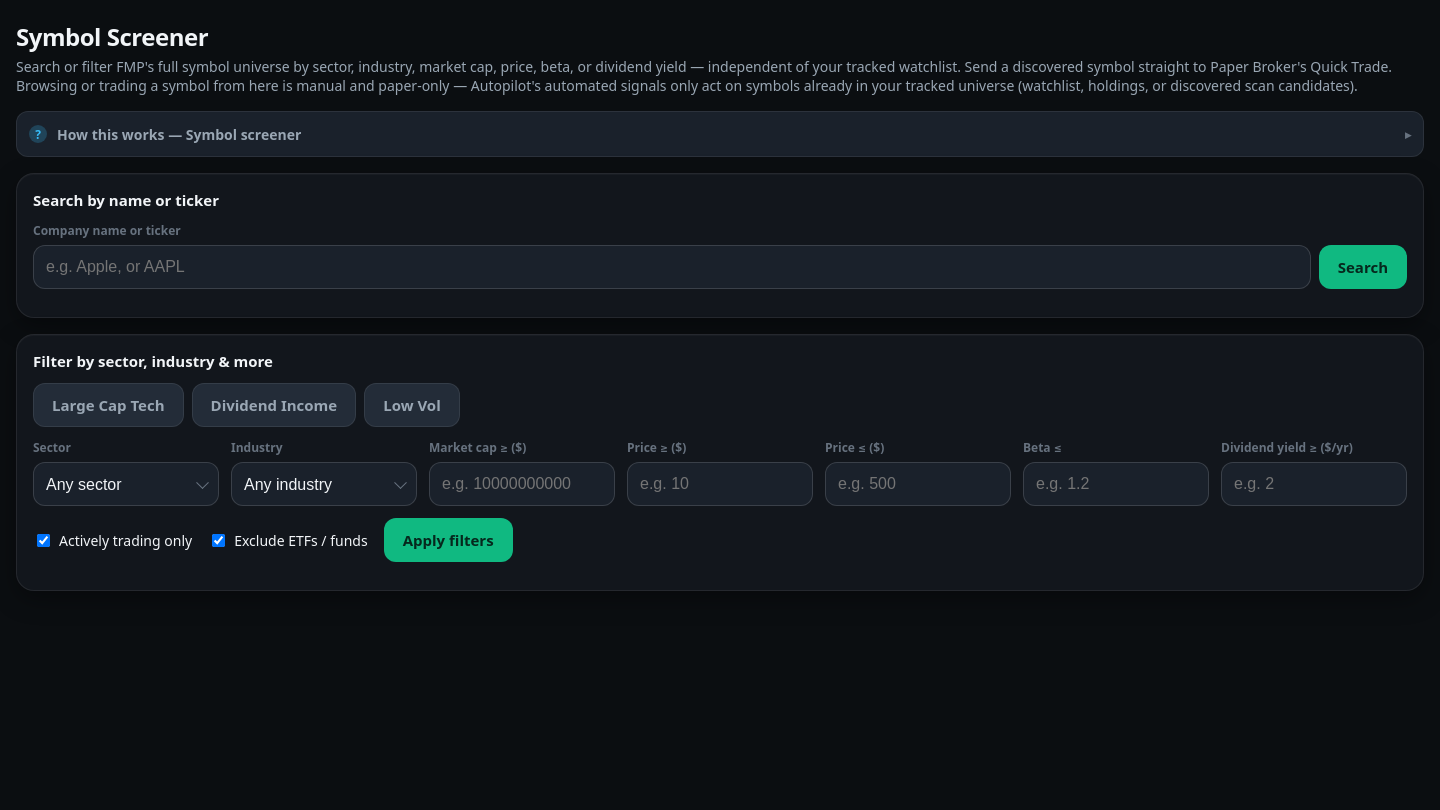
SymbolScreener screen (real mock API) › filters: a combination matching nothing shows an honest reason, not a fabricated row
Type "999999" into the number field labelled "Price ≥ ($)". click: (720, 484)
box: x1=627 y1=462 x2=813 y2=506
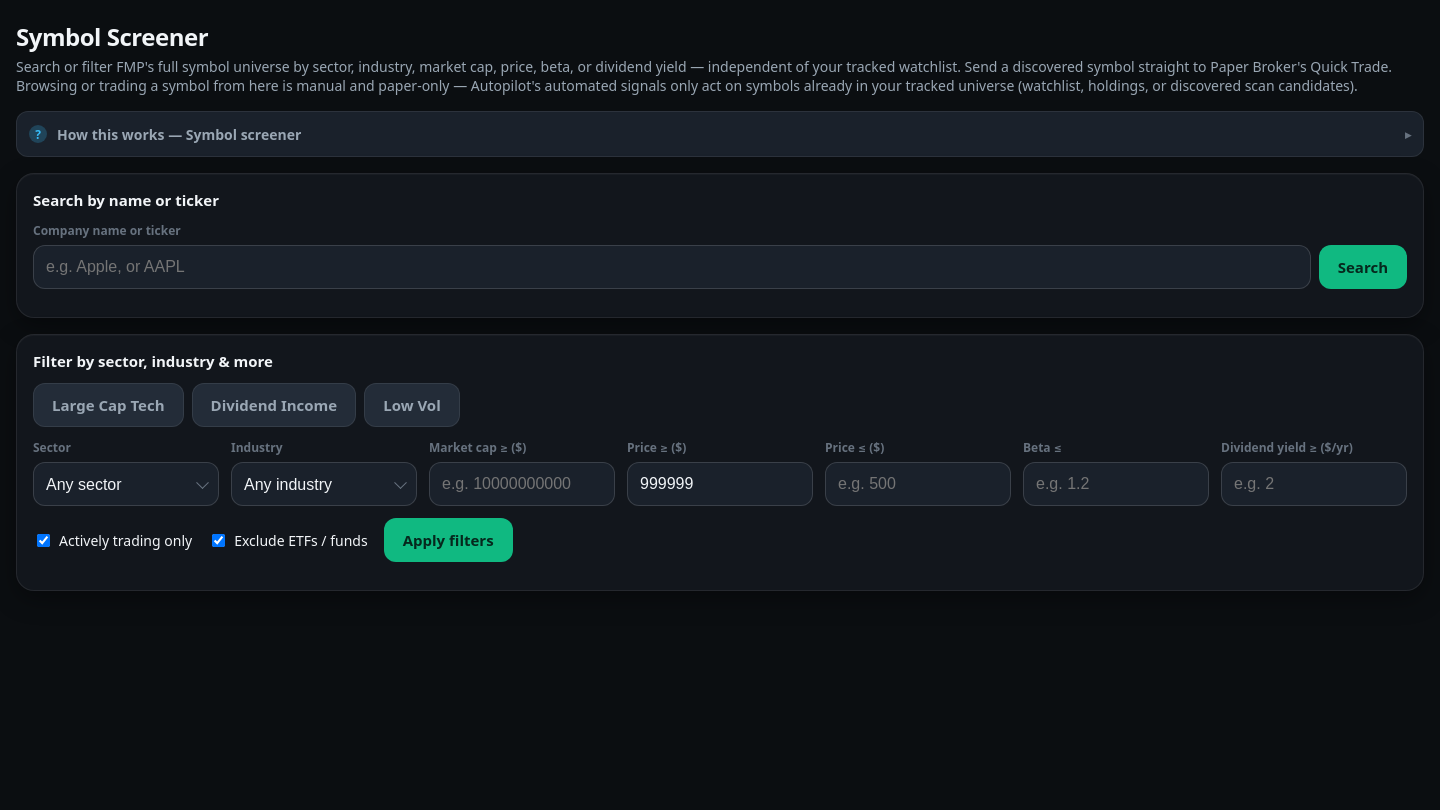
Click the button "Apply filters". click: (448, 540)
box: x1=384 y1=518 x2=513 y2=562
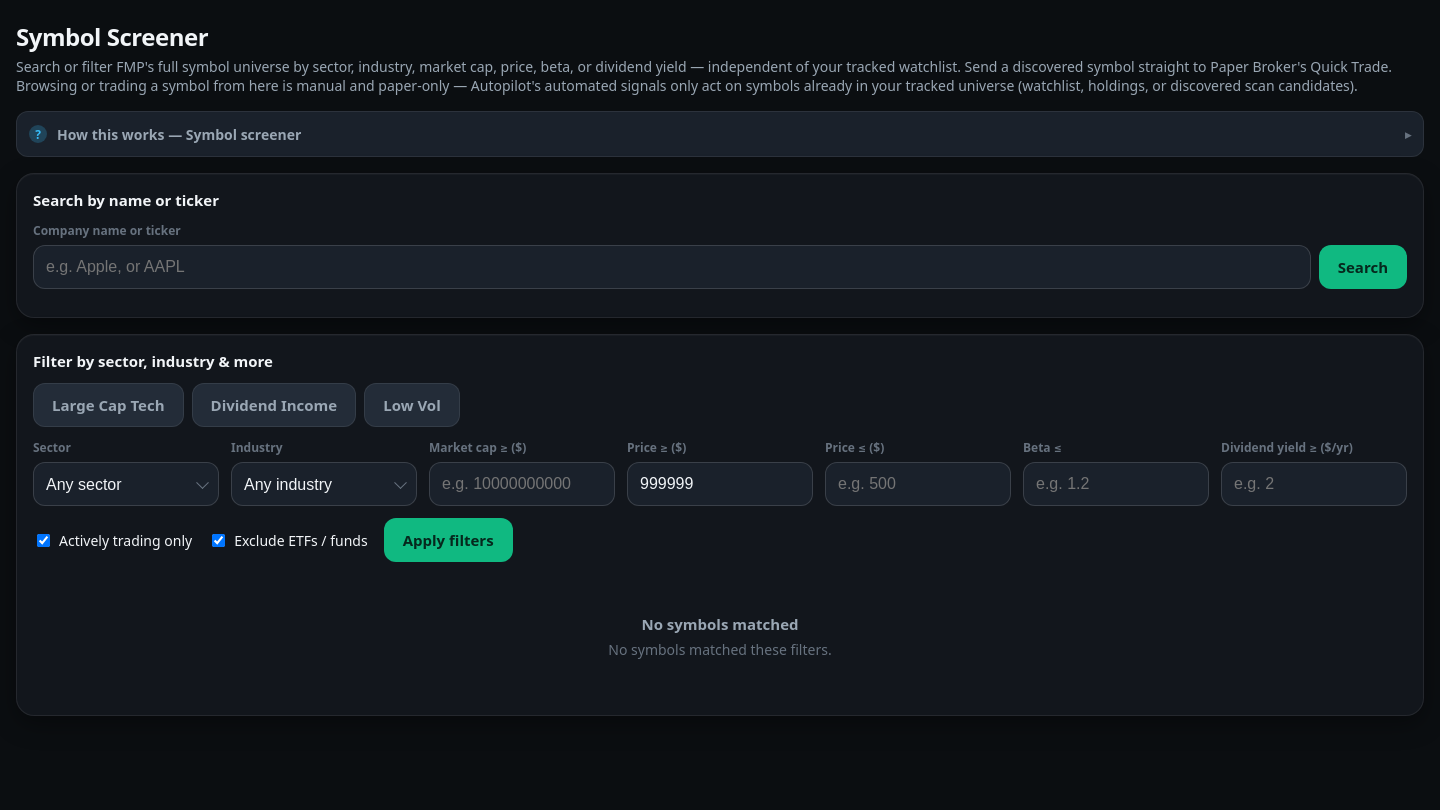
Expected: the text "No symbols matched" is shown, x1=642 y1=614 x2=798 y2=634
Expected: the text "No symbols matched these filters." is shown, x1=608 y1=640 x2=832 y2=659
